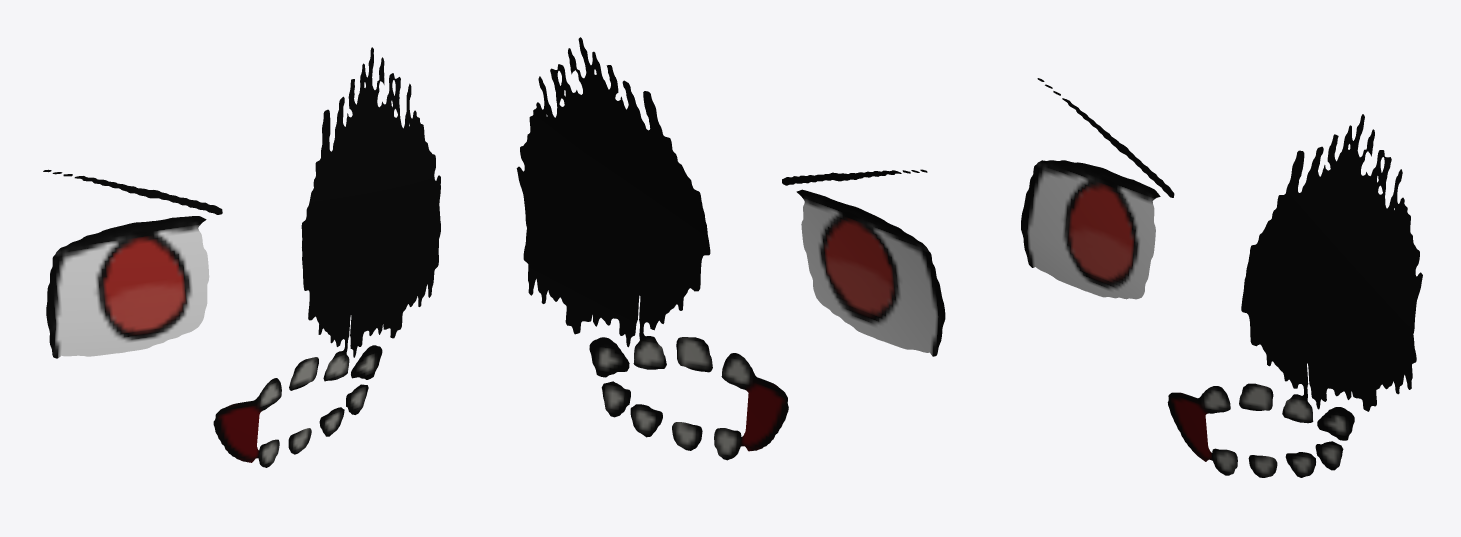
Rendered from charFace.fbx.
The picture shows the model from 3 angles, left to right: view 1: azimuth 30°, elevation 25°; view 2: azimuth 150°, elevation 25°; view 3: azimuth 330°, elevation 25°; orthographic projection. The views are drawn at different scales.
Parts seen in each view (by area): view 1: face; view 2: face; view 3: face.
Boxes of the visible parts, x1,y1,x2,y2 form: face: [43, 47, 440, 467]; face: [516, 37, 945, 460]; face: [1021, 78, 1422, 477].
Size of the model in its own units: 63.73 by 62.86 by 9.89.
